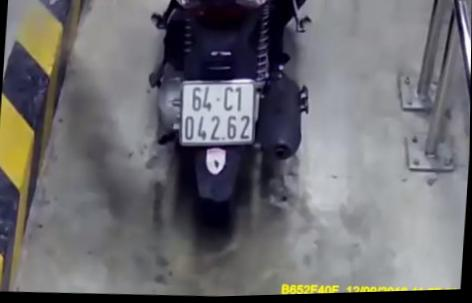LP: (177, 75, 260, 151)
